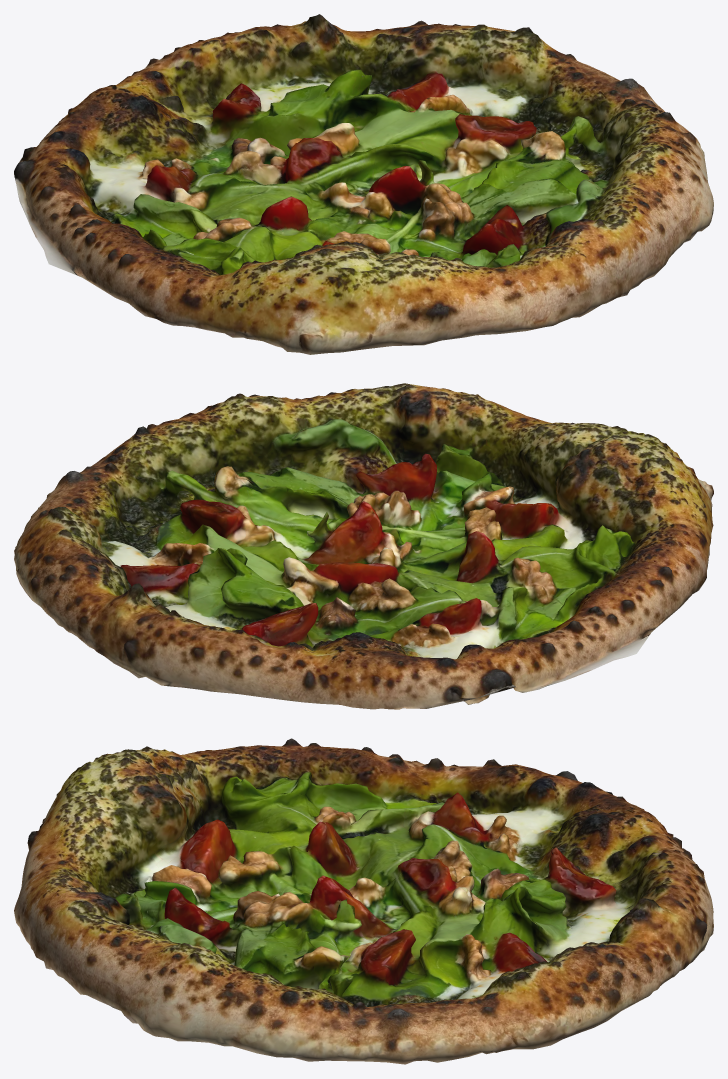
Rendered from pesto.glb.
The picture shows the model from 3 angles, top to bottom: view 1: azimuth 30°, elevation 25°; view 2: azimuth 150°, elevation 25°; view 3: azimuth 270°, elevation 25°; orthographic projection. The views are drawn at different scales.
Size of the model in its own units: 0.947 by 0.1308 by 0.9492.
1 material, 1 textured.
